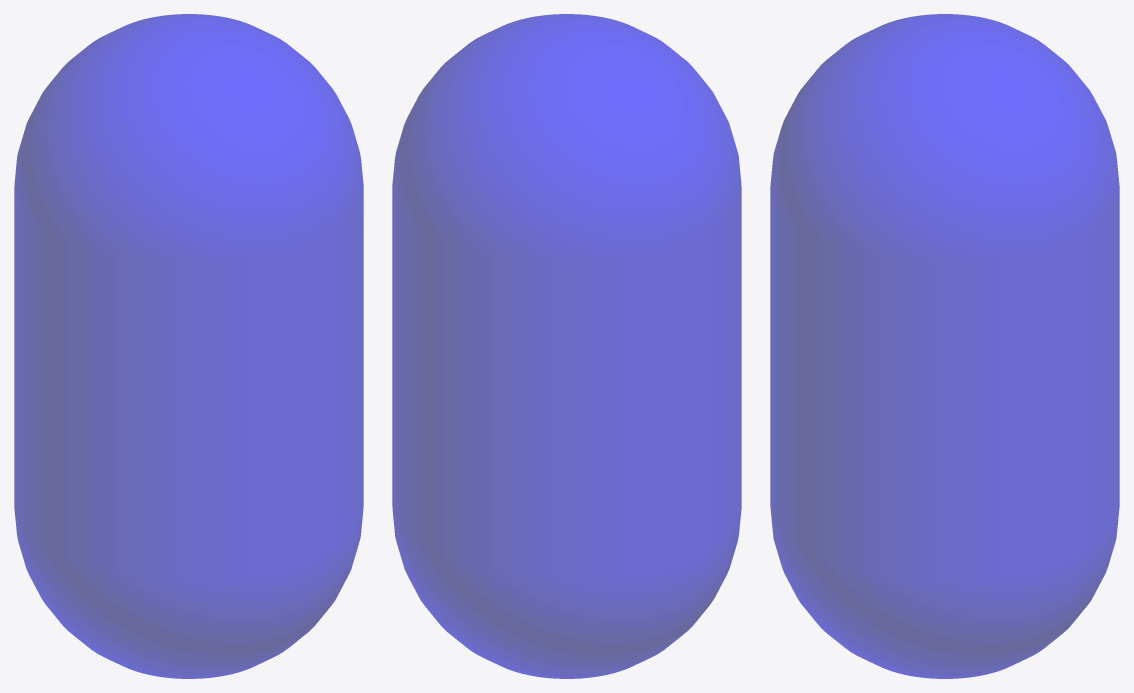
Rendered from ...Player_Model_Base.gltf.
3 views of the same model, side by side, from view 1: azimuth 30°, elevation 25°; view 2: azimuth 150°, elevation 25°; view 3: azimuth 270°, elevation 25° (orthographic).
Visible parts, largest first — view 1: Model; view 2: Model; view 3: Model.
Boxes of the visible parts, x1,y1,x2,y2 form: Model: [14, 14, 363, 678]; Model: [392, 14, 741, 678]; Model: [770, 14, 1119, 678].
Bounding box in the file's own units: 0.9 × 1.8 × 0.9.
